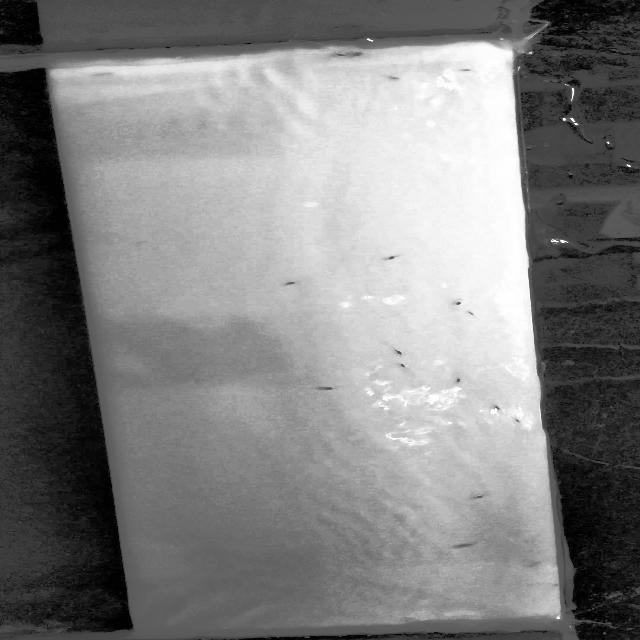shrimp: (446, 536, 488, 551), (450, 307, 483, 319), (378, 254, 406, 266), (276, 277, 308, 287), (387, 343, 408, 358), (444, 68, 480, 76), (520, 557, 543, 569), (444, 296, 467, 308), (313, 386, 346, 394), (469, 492, 492, 503), (483, 404, 506, 414), (88, 72, 120, 79), (326, 52, 354, 59), (346, 51, 372, 58), (393, 362, 411, 372), (449, 377, 467, 387), (382, 72, 401, 81), (513, 414, 527, 424)
